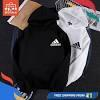sweater: (13, 6, 70, 90)
